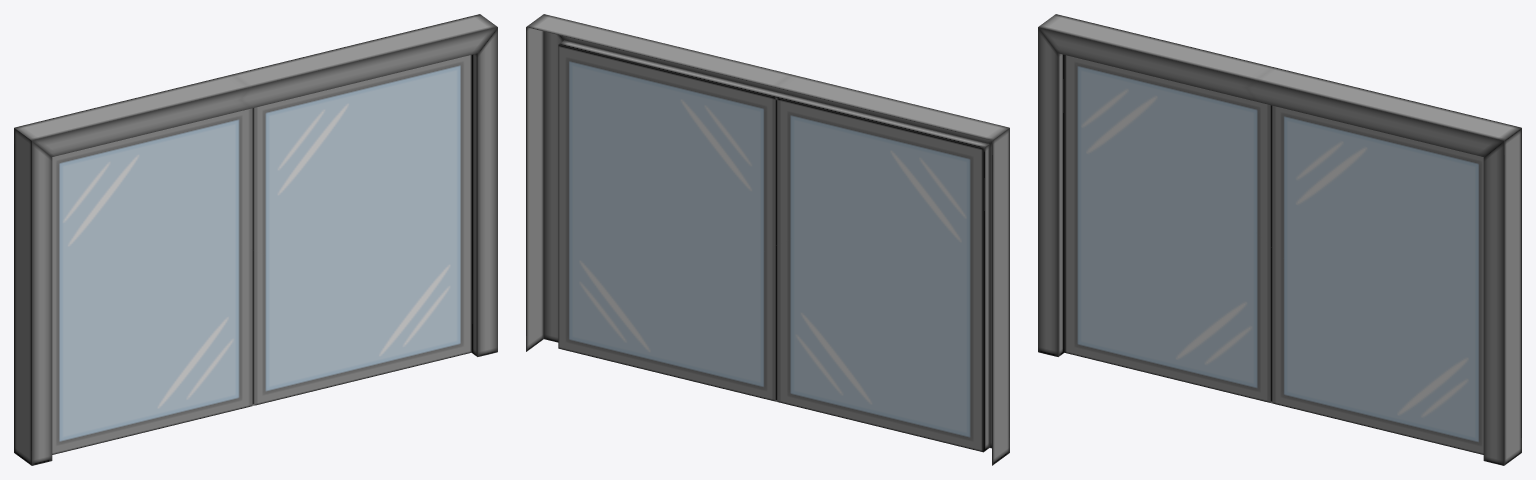
Rendered from Einrichtung_Wand_Eingang.fbx.
3 views of the same model, side by side, from view 1: azimuth 30°, elevation 25°; view 2: azimuth 150°, elevation 25°; view 3: azimuth 330°, elevation 25° (orthographic).
Visible parts, largest first — view 1: eingangstuer; view 2: eingangstuer; view 3: eingangstuer.
Boxes of the visible parts, x1,y1,x2,y2 form: eingangstuer: [14, 14, 497, 465]; eingangstuer: [526, 14, 1009, 465]; eingangstuer: [1038, 14, 1521, 465].
Size of the model in its own units: 300 by 200 by 20.
